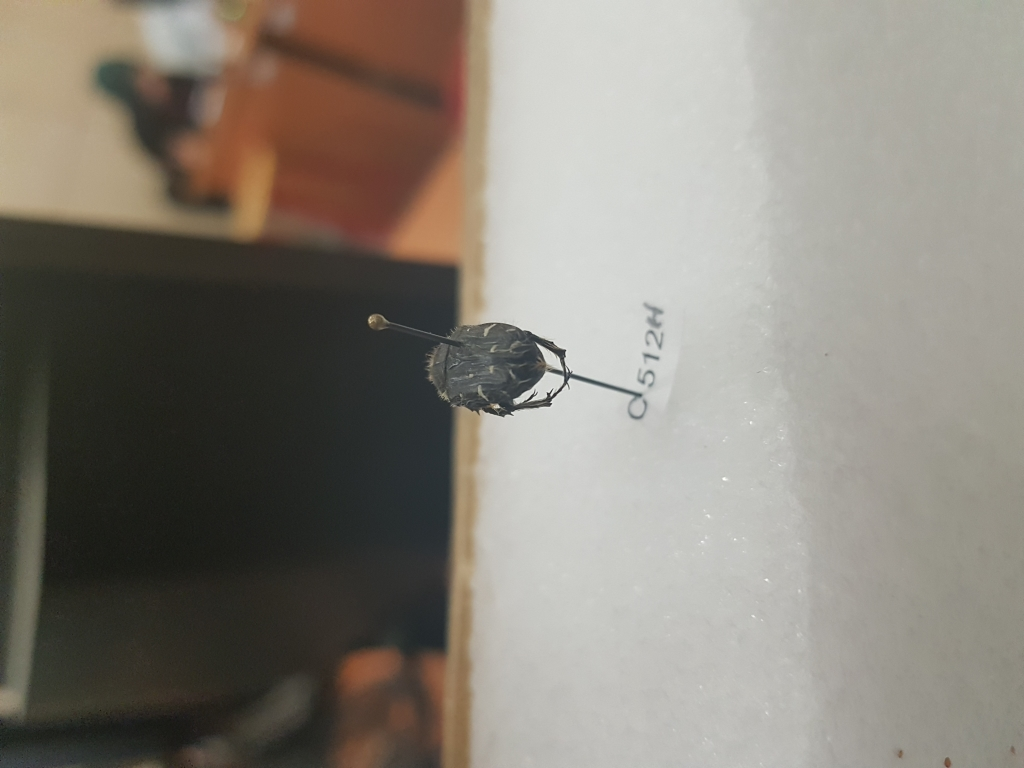Tropinota_senicula: (417, 312, 577, 420)
